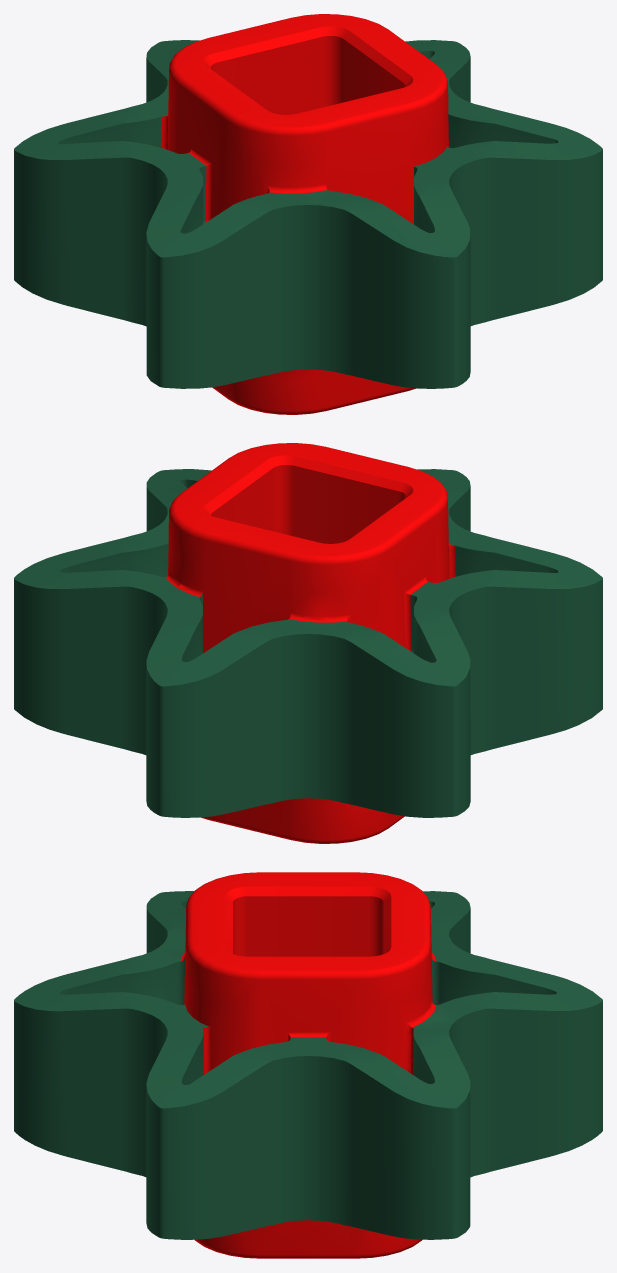
Rendered from 6t-high-strength-sprocket-hs-bore.glb.
The picture shows the model from 3 angles, top to bottom: view 1: azimuth 30°, elevation 25°; view 2: azimuth 150°, elevation 25°; view 3: azimuth 270°, elevation 25°; orthographic projection.
Visible parts, largest first — view 1: 276-2252-003 Rev2; view 2: 276-2252-003 Rev2; view 3: 276-2252-003 Rev2.
Part boxes in pixels (x1,y1,x2,y2): 276-2252-003 Rev2: [14, 14, 602, 414]; 276-2252-003 Rev2: [14, 443, 602, 843]; 276-2252-003 Rev2: [14, 872, 602, 1258].
Bounding box in the file's own units: 0.0215 × 0.0133 × 0.0247.
